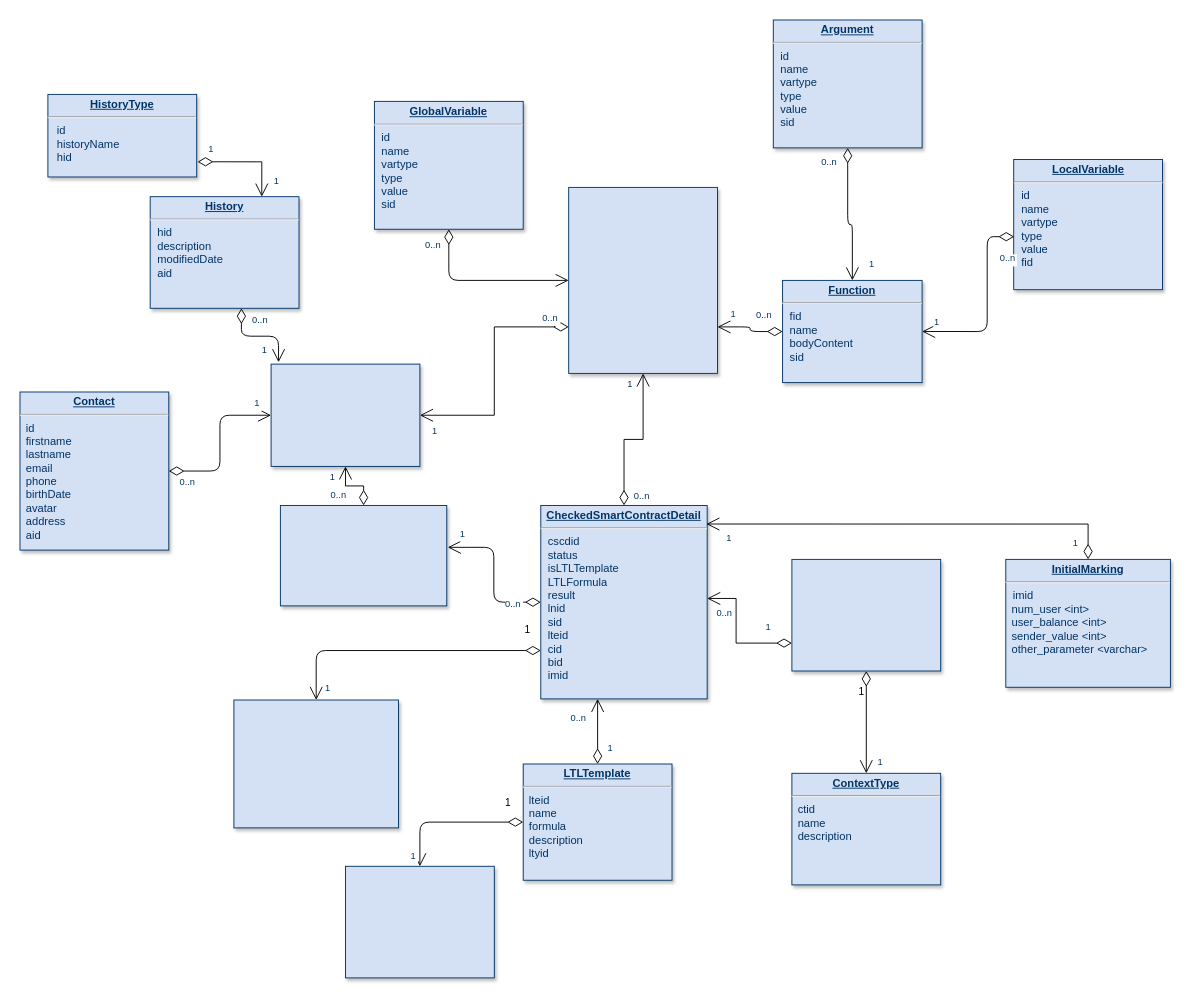
Image size: 1192x1001. Some labels were removed from this diagram. The centre of each missing label's shape, as x and y in pixels:
"Account aid username password role" goes at point (345, 416).
"CheckedBatchSC bid aid name checkedDate description" goes at point (364, 556).
"CPNContext cid name content description ctid" goes at point (866, 616).
"LNAFile lnid hcpnfile propfile" goes at point (316, 764).
"LTLType ltyid name description" goes at point (420, 923).
"SmartContract sid name type content description aid" goes at point (643, 281).
